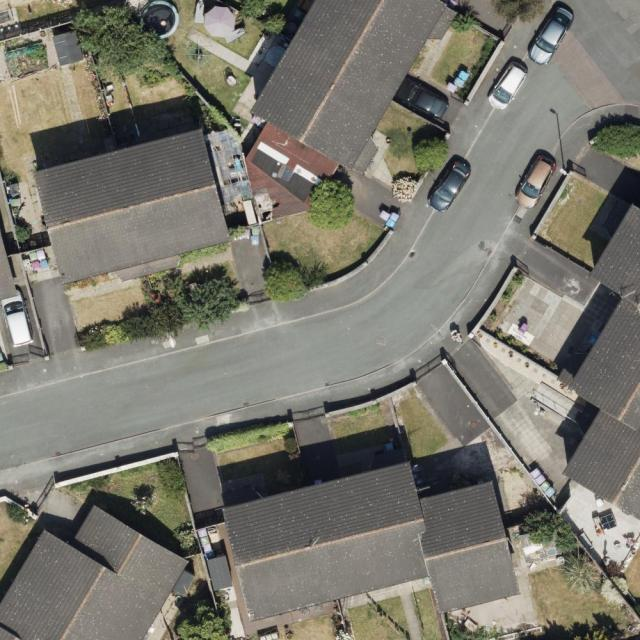roof: (219, 460, 522, 622), (241, 0, 456, 218), (33, 128, 232, 287), (0, 507, 191, 639), (561, 201, 640, 520)
